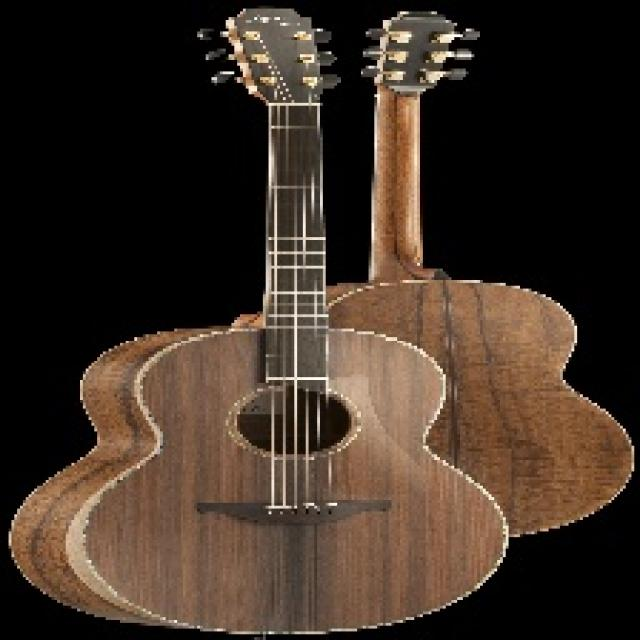guitar: (7, 8, 506, 636), (300, 15, 634, 538)
